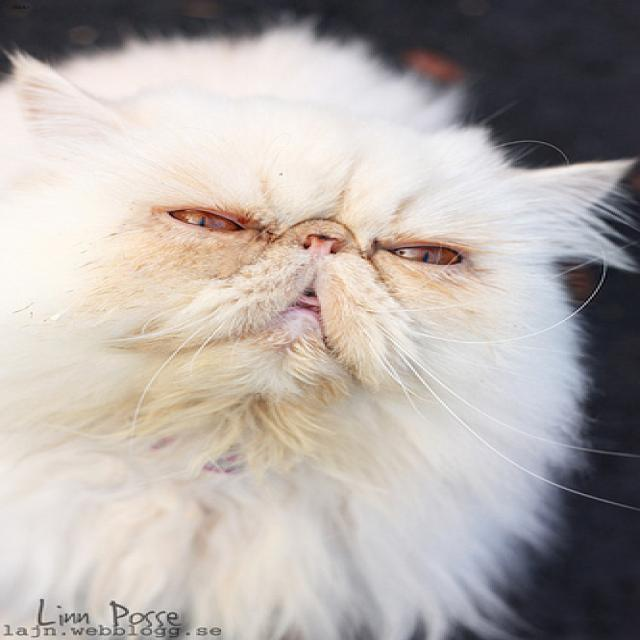Persian: (0, 52, 628, 392)
